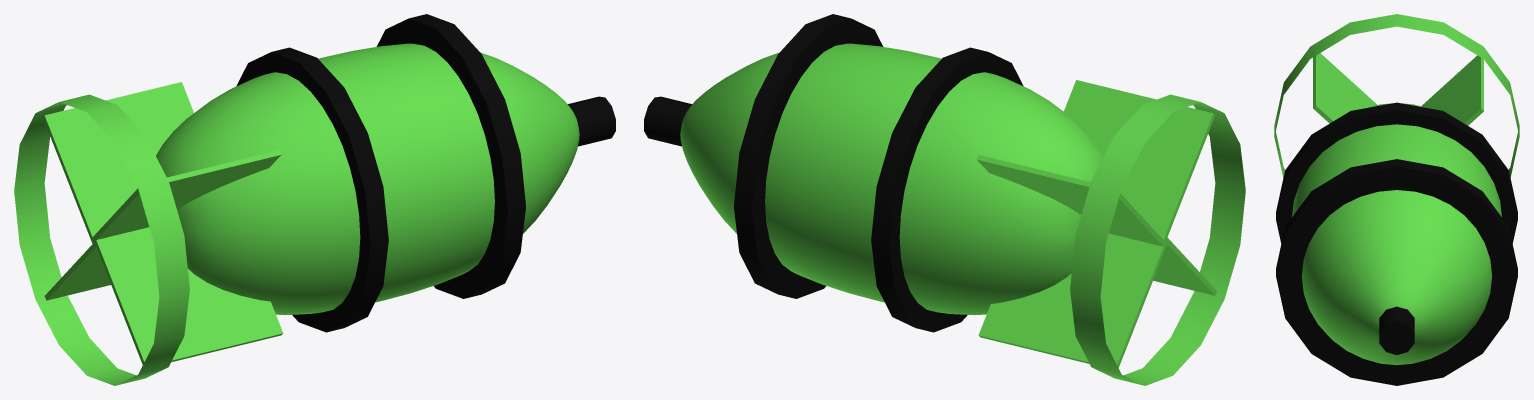
The model's file is powerup_bomb.gltf.
3 views of the same model, side by side, from view 1: azimuth 30°, elevation 25°; view 2: azimuth 150°, elevation 25°; view 3: azimuth 270°, elevation 25° (orthographic). The views are drawn at different scales.
Parts seen in each view (by area): view 1: powerup_bomb; view 2: powerup_bomb; view 3: powerup_bomb.
Boxes of the visible parts, box(x1,y1,x2,y2) form: powerup_bomb: box(14, 14, 615, 385); powerup_bomb: box(644, 14, 1245, 385); powerup_bomb: box(1274, 14, 1519, 385).
Size of the model in its own units: 0.68 by 0.33 by 0.33.
